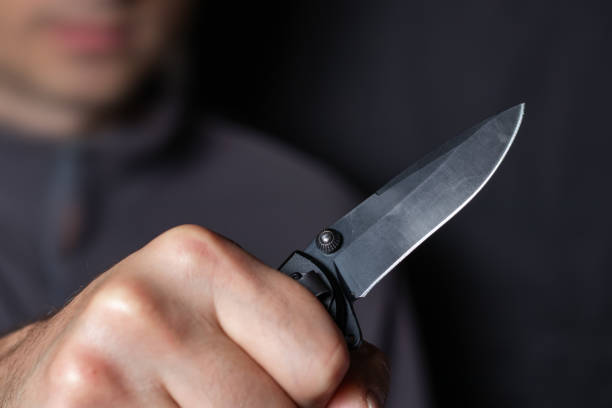knife: (277, 99, 528, 351)
